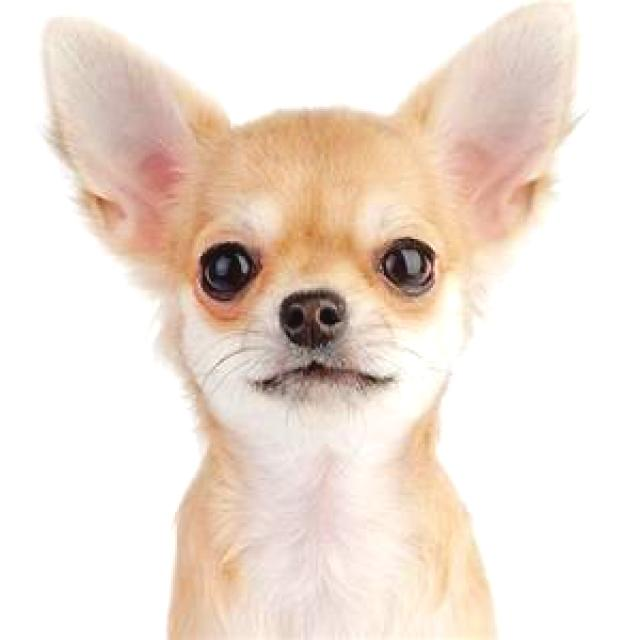KOPEK: (41, 5, 585, 640)
